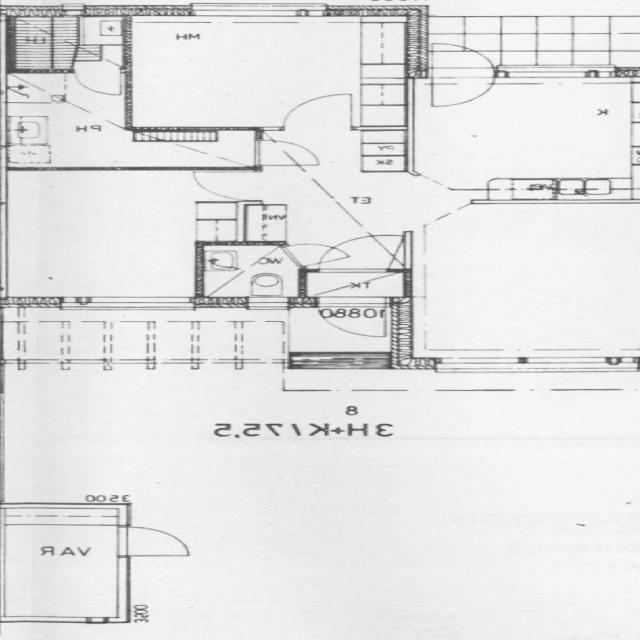door: (316, 297, 386, 340), (430, 67, 494, 108), (430, 37, 494, 78), (284, 94, 352, 130), (319, 237, 387, 273), (280, 237, 350, 268), (118, 528, 186, 556), (195, 172, 262, 200), (256, 140, 314, 165), (76, 69, 122, 95)
